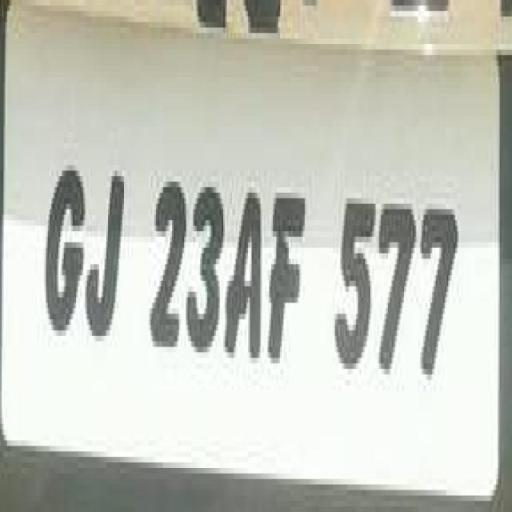number plate: (0, 44, 489, 496)
